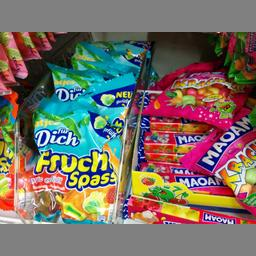candy: (26, 95, 124, 222), (140, 58, 242, 127)
